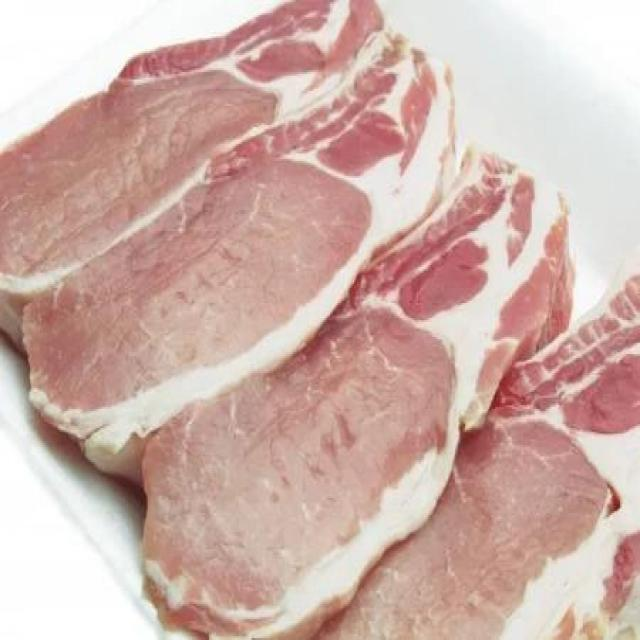pork: (0, 0, 383, 248)
